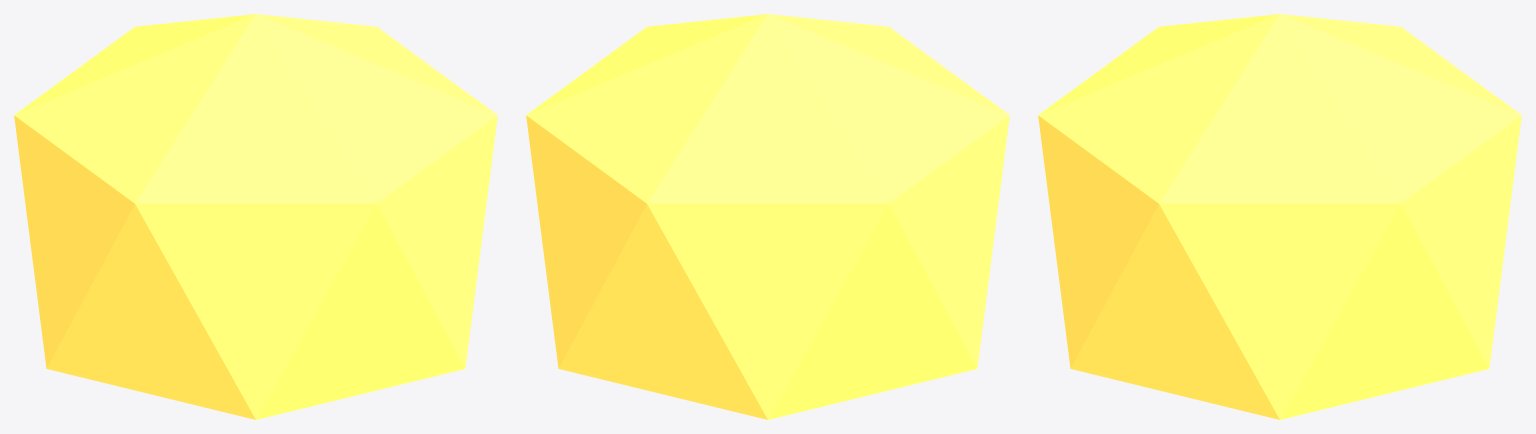
The model's file is missile.glb.
3 views of the same model, side by side, from view 1: azimuth 30°, elevation 25°; view 2: azimuth 150°, elevation 25°; view 3: azimuth 270°, elevation 25° (orthographic).
Visible parts, largest first — view 1: missile; view 2: missile; view 3: missile.
Part boxes in pixels (box(x1,y1,x2,y2)): missile: box(14, 14, 497, 419); missile: box(526, 14, 1009, 419); missile: box(1038, 14, 1521, 419).
Bounding box in the file's own units: 0.2771 × 0.256 × 0.2771.
